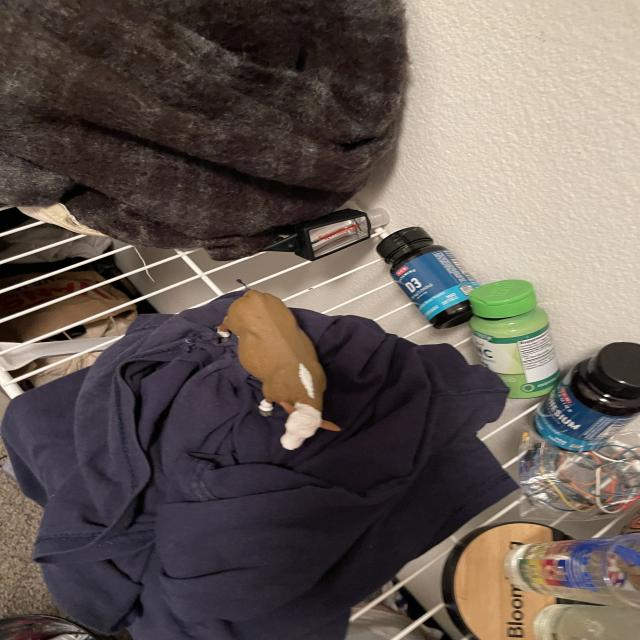cow: (207, 275, 355, 459)
